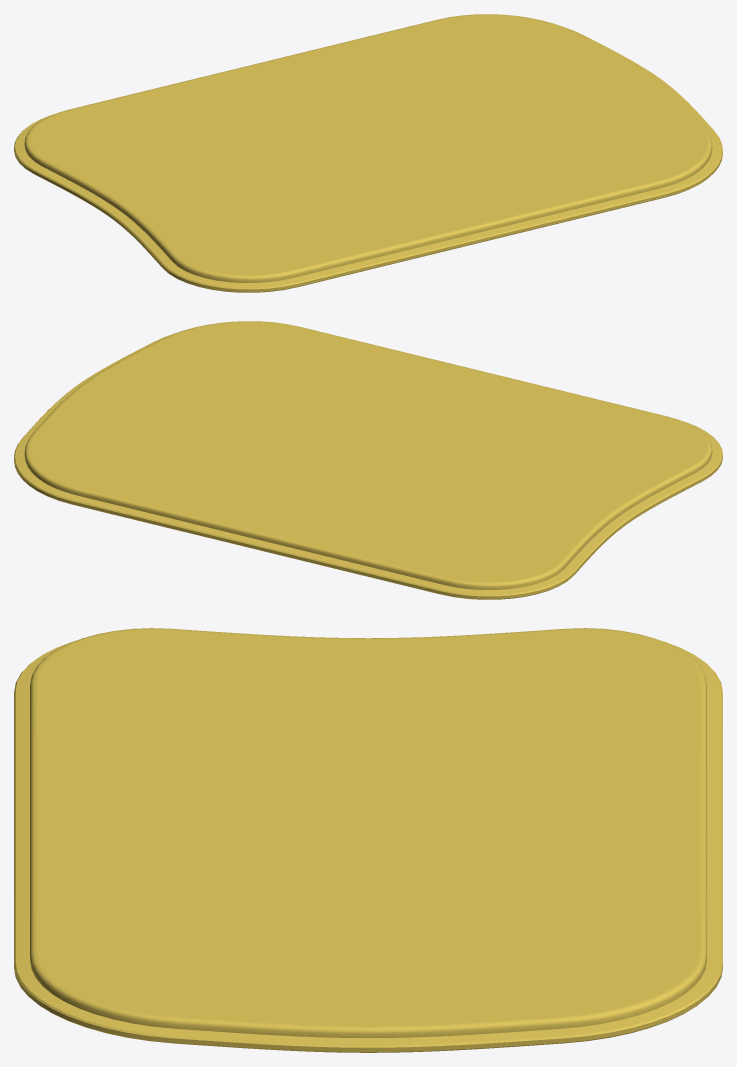
The model's file is MOUSEPAD_01.obj.
3 views of the same model, one above another, from view 1: azimuth 30°, elevation 25°; view 2: azimuth 150°, elevation 25°; view 3: azimuth 270°, elevation 25° (orthographic). The views are drawn at different scales.
Visible parts, largest first — view 1: POLYGONFLY_MOUSEPAD_01_gum, POLYGONFLY_MOUSEPAD_01_metal; view 2: POLYGONFLY_MOUSEPAD_01_gum, POLYGONFLY_MOUSEPAD_01_metal; view 3: POLYGONFLY_MOUSEPAD_01_gum, POLYGONFLY_MOUSEPAD_01_metal.
Part boxes in pixels (left/top/right/bottom): POLYGONFLY_MOUSEPAD_01_gum: left=24, top=14, right=712, bottom=282; POLYGONFLY_MOUSEPAD_01_metal: left=14, top=27, right=722, bottom=292; POLYGONFLY_MOUSEPAD_01_gum: left=24, top=321, right=712, bottom=589; POLYGONFLY_MOUSEPAD_01_metal: left=14, top=334, right=722, bottom=599; POLYGONFLY_MOUSEPAD_01_gum: left=30, top=628, right=706, bottom=1038; POLYGONFLY_MOUSEPAD_01_metal: left=14, top=641, right=722, bottom=1052.
Bounding box in the file's own units: 12.27 × 0.2362 × 8.82.
